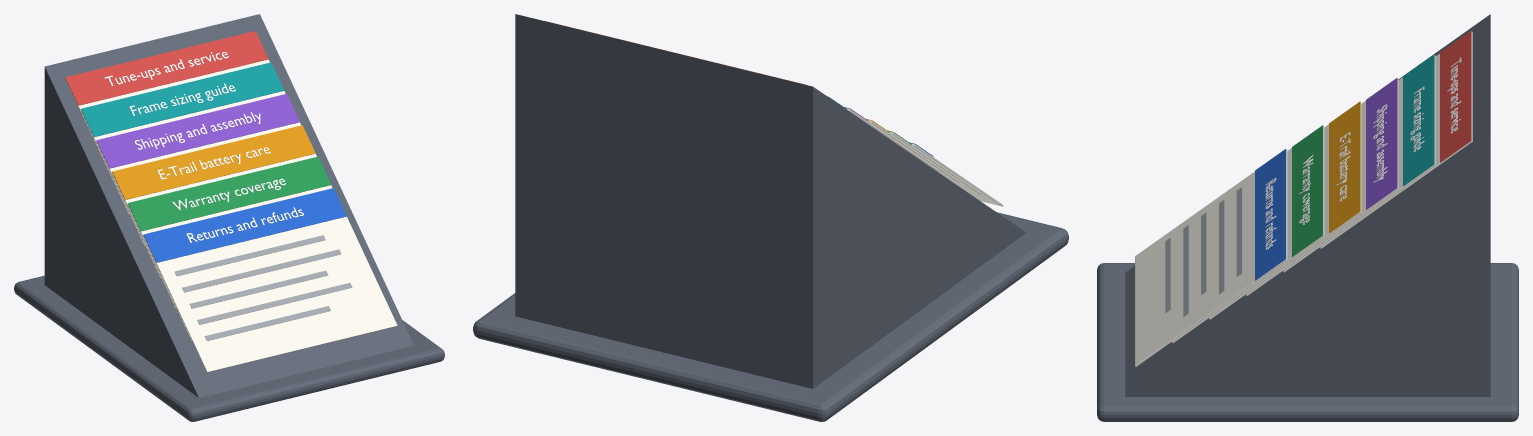
File: corpus.glb
3 renders of one model, left to right at view 1: azimuth 30°, elevation 25°; view 2: azimuth 150°, elevation 25°; view 3: azimuth 270°, elevation 25°, orthographic. The views are drawn at different scales.
Visible parts, largest first — view 1: slope, returns_paper, stand, battery_band, sizing_band, returns_band, warranty_band, service_band, shipping_band, returns_l0, sizing_paper, warranty_paper (+9 smaller); view 2: slope, stand; view 3: slope, stand, returns_paper, battery_band, service_band, returns_band, sizing_band, warranty_band, shipping_band, returns_l0, battery_paper, service_paper (+9 smaller).
Part boxes in pixels (x1,y1,x2,y2): slope: (44, 14, 413, 397); returns_paper: (143, 216, 397, 372); stand: (14, 275, 444, 421); battery_band: (112, 125, 315, 199); sizing_band: (81, 62, 284, 136); returns_band: (143, 188, 346, 262); warranty_band: (128, 156, 331, 231); service_band: (65, 31, 268, 105); shipping_band: (96, 93, 299, 168); returns_l0: (174, 235, 352, 340); sizing_paper: (80, 91, 285, 246); warranty_paper: (127, 185, 332, 341); slope: (515, 14, 1026, 388); stand: (473, 212, 1068, 421); slope: (1125, 14, 1490, 396); stand: (1097, 263, 1518, 421); returns_paper: (1135, 149, 1287, 366); battery_band: (1329, 101, 1360, 233); service_band: (1440, 30, 1471, 162); returns_band: (1255, 149, 1286, 280); sizing_band: (1403, 54, 1434, 186); warranty_band: (1292, 125, 1323, 257); shipping_band: (1366, 78, 1397, 209); returns_l0: (1165, 187, 1242, 317); battery_paper: (1209, 102, 1361, 319); service_paper: (1320, 31, 1472, 248).
Bounding box in the file's own units: 0.62 × 0.5348 × 0.7462.
